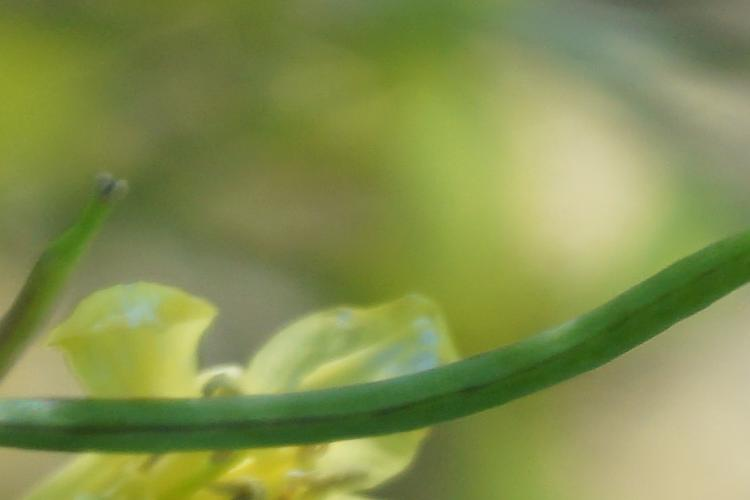pod: (11, 160, 150, 350)
yellow: (63, 277, 453, 500)
